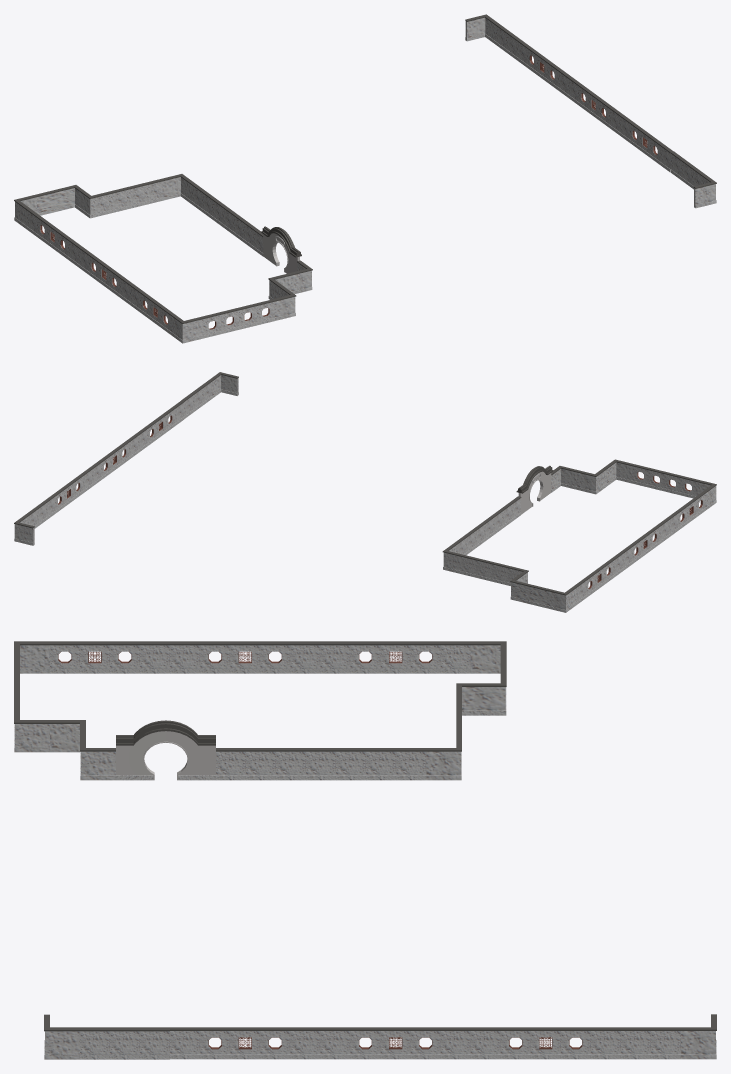
Rendered from fence.fbx.
3 views of the same model, one above another, from view 1: azimuth 30°, elevation 25°; view 2: azimuth 150°, elevation 25°; view 3: azimuth 270°, elevation 25° (orthographic). The views are drawn at different scales.
Parts seen in each view (by area): view 1: Cube.169, Cube.168, 月门.002, Cube.171, Cube.032, Cube.055, Cube.057, Cube.166, Cube.041, Cube.056, Cube.033, Cube.153; view 2: Cube.168, Cube.169, 月门.002, Cube.171, Cube.058, Cube.170, Cube.041, Cube.056, Cube.055, Cube.033, Cube.153, Cube.057 (+2 smaller); view 3: Cube.168, 月门.002, Cube.041, Cube.055, Cube.166, Cube.033, Cube.056, Cube.153, Cube.057, Cube.170, Cube.058, Cube.032 (+31 smaller).
Boxes of the visible parts, bbox=[...] form: Cube.169: bbox=[91, 179, 162, 217]; Cube.168: bbox=[191, 182, 255, 248]; 月门.002: bbox=[261, 226, 301, 273]; Cube.171: bbox=[35, 185, 93, 218]; Cube.032: bbox=[170, 313, 203, 343]; Cube.055: bbox=[495, 23, 528, 66]; Cube.057: bbox=[465, 14, 498, 44]; Cube.166: bbox=[161, 174, 193, 203]; Cube.041: bbox=[670, 151, 704, 189]; Cube.056: bbox=[693, 174, 716, 208]; Cube.033: bbox=[273, 286, 296, 320]; Cube.153: bbox=[290, 260, 312, 293]; Cube.168: bbox=[454, 503, 511, 555]; Cube.169: bbox=[461, 554, 526, 585]; 月门.002: bbox=[516, 465, 553, 514]; Cube.171: bbox=[510, 570, 548, 608]; Cube.058: bbox=[577, 467, 607, 494]; Cube.170: bbox=[547, 586, 576, 612]; Cube.041: bbox=[181, 380, 211, 418]; Cube.056: bbox=[209, 372, 238, 398]; Cube.055: bbox=[25, 494, 55, 528]; Cube.033: bbox=[604, 459, 633, 485]; Cube.153: bbox=[551, 466, 578, 492]; Cube.057: bbox=[14, 515, 34, 545]; Cube.168: bbox=[246, 748, 426, 780]; 月门.002: bbox=[116, 720, 215, 780]; Cube.041: bbox=[80, 1027, 169, 1059]; Cube.055: bbox=[591, 1027, 680, 1059]; Cube.166: bbox=[426, 735, 461, 780]; Cube.033: bbox=[14, 707, 49, 752]; Cube.056: bbox=[44, 1014, 79, 1059]; Cube.153: bbox=[80, 735, 115, 780]; Cube.057: bbox=[681, 1014, 716, 1059]; Cube.170: bbox=[470, 641, 506, 673]; Cube.058: bbox=[50, 720, 85, 760]; Cube.032: bbox=[14, 641, 49, 673].
Bounding box in the file's own units: 9176 × 640 × 7017.
